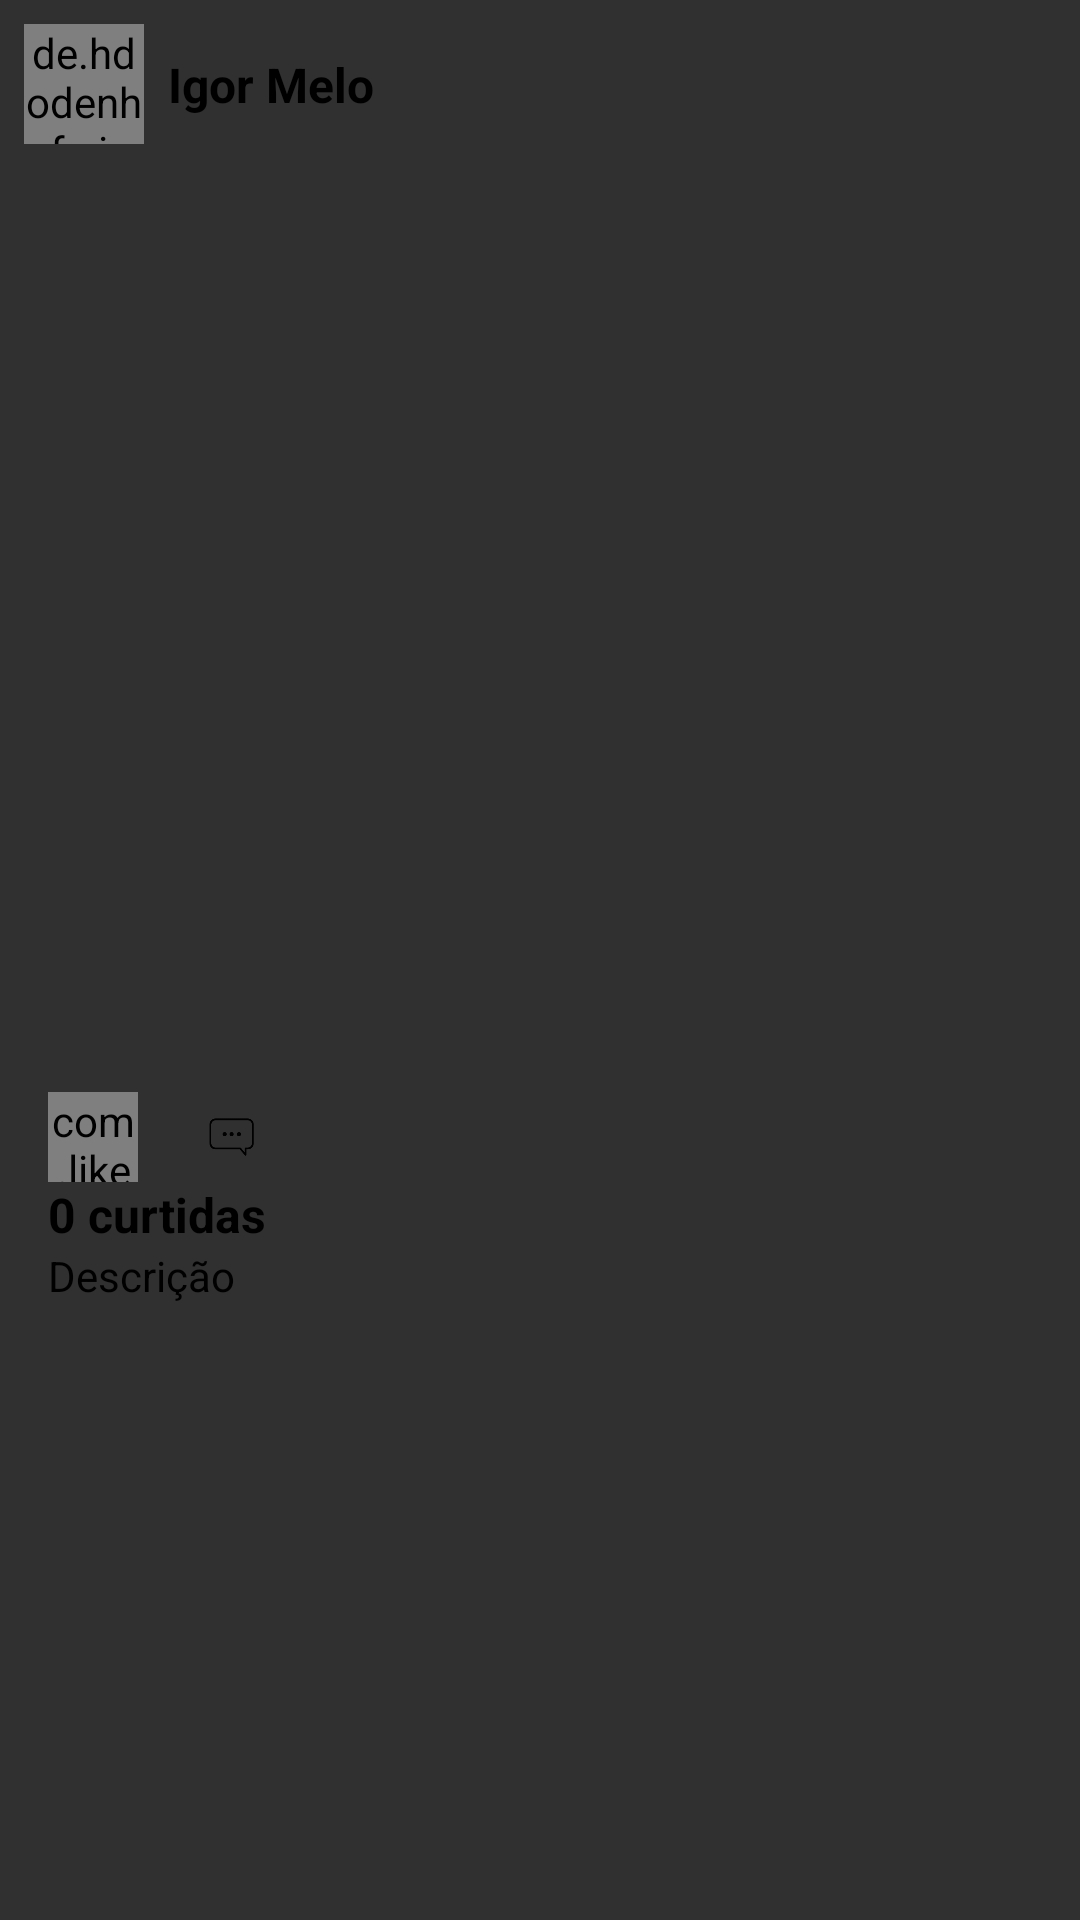

Screen size 1080px x 1920px. Icon name, then its box in pixels as bbox=(x1, y1, x2, y2):
comentario: bbox=(210, 1118, 254, 1156)
